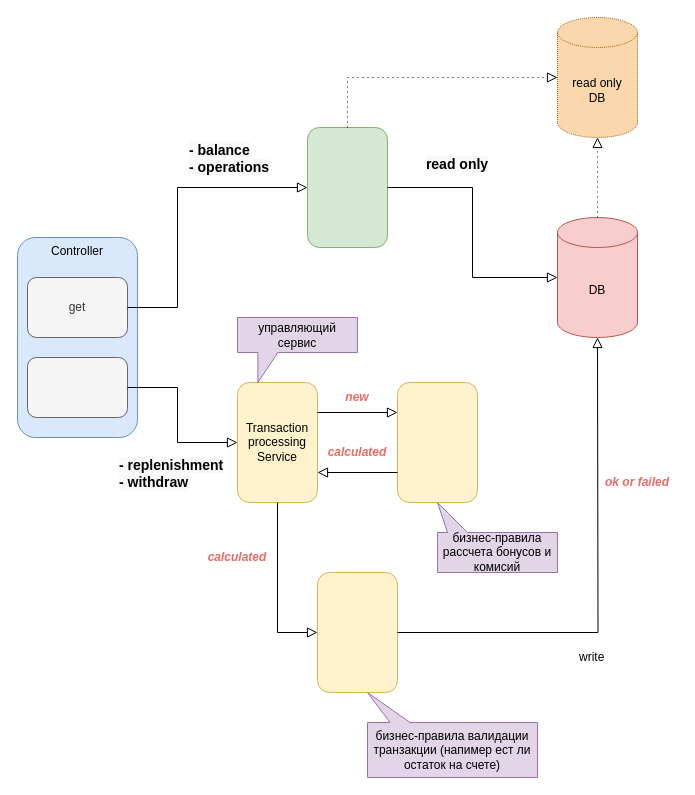
Image size: 695x795. Some labels were removed from this diagram. The centre of each missing label's shape, as x and y in pixels:
Account info Service: the point at 347,187
post: the point at 77,387
Transaction calculation Service: the point at 437,442
Transaction complition Service: the point at 357,632
